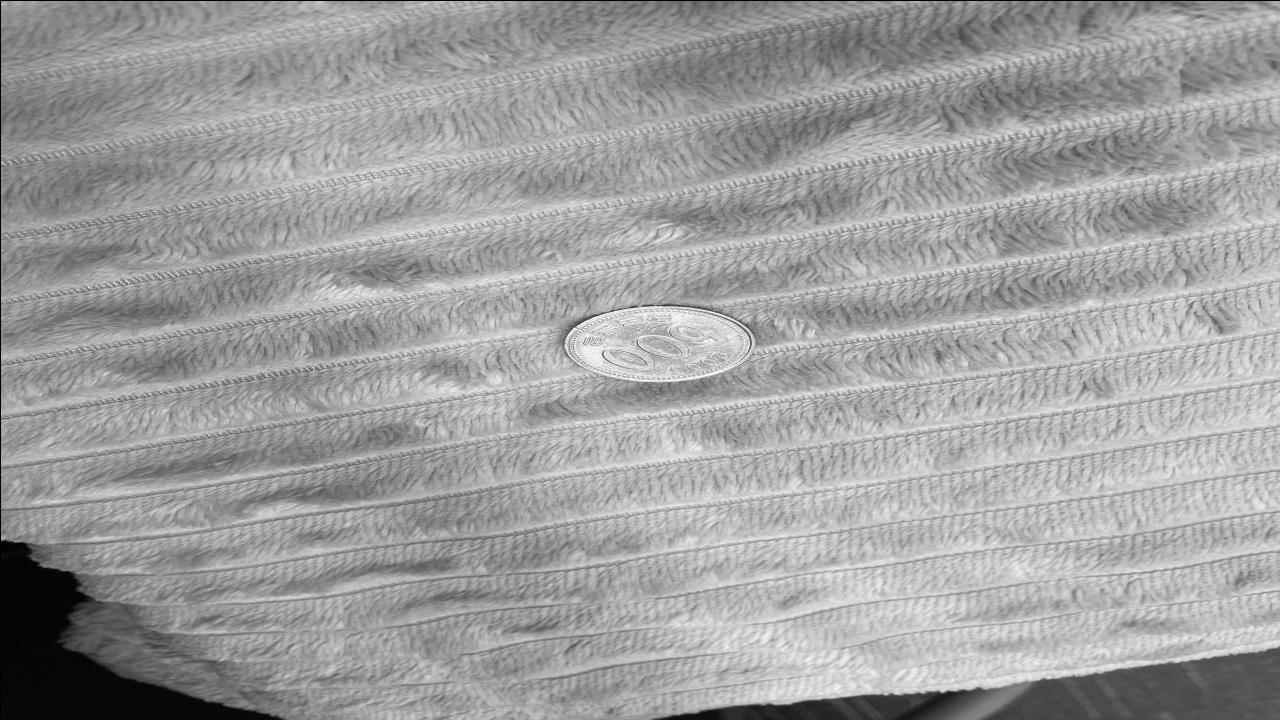coin: (559, 303, 759, 382)
